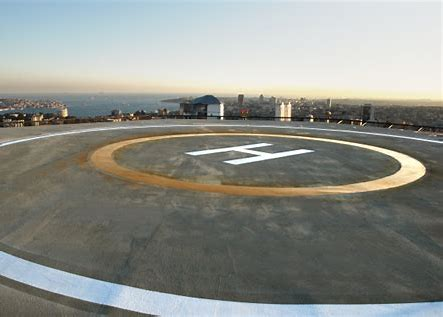H: (185, 142, 315, 165)
